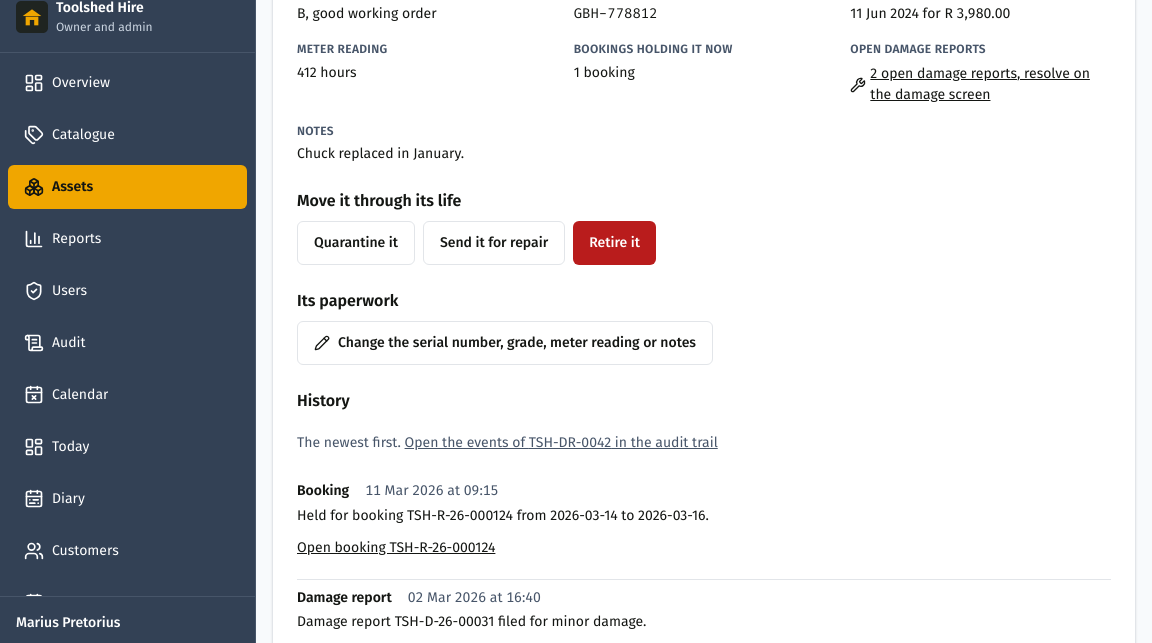
changing the paperwork › goes back to the form with each refusal under its field, and lists one with no field
(page scrolled)
Click the button "Change the serial number, grade, meter reading or notes": (505,343) top-left (297, 321), bottom-right (713, 365)
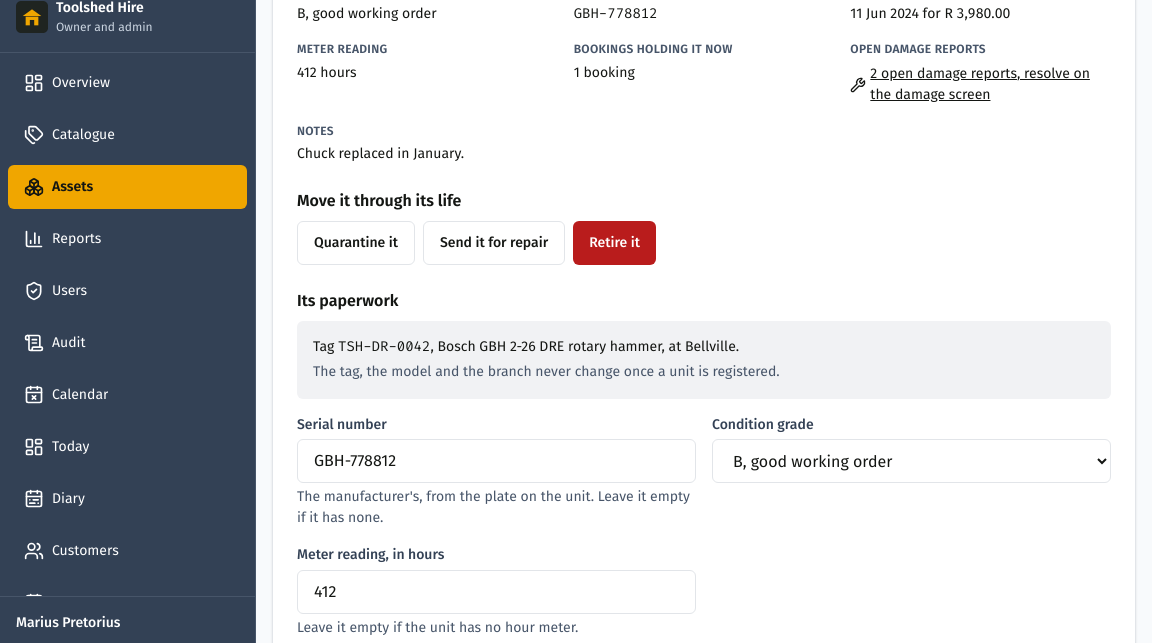
Replace the text in the field labelled "Meter reading, in hours" with "-4": (496,592) top-left (297, 570), bottom-right (696, 614)
(page scrolled)
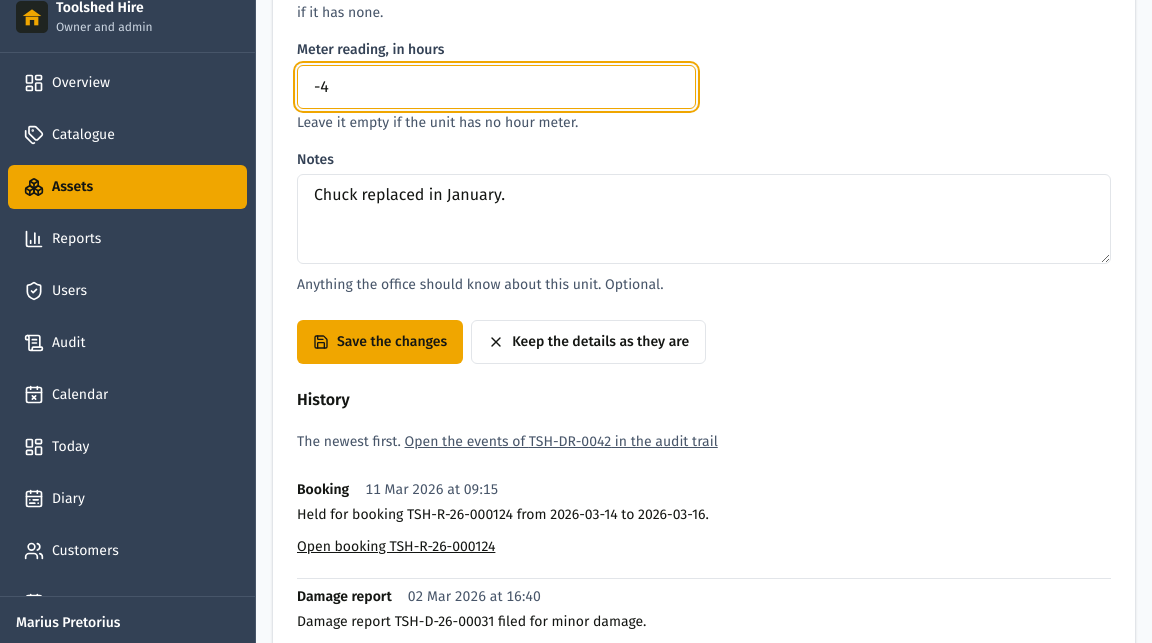
Click the button "Save the changes": (380,342) top-left (297, 320), bottom-right (463, 364)
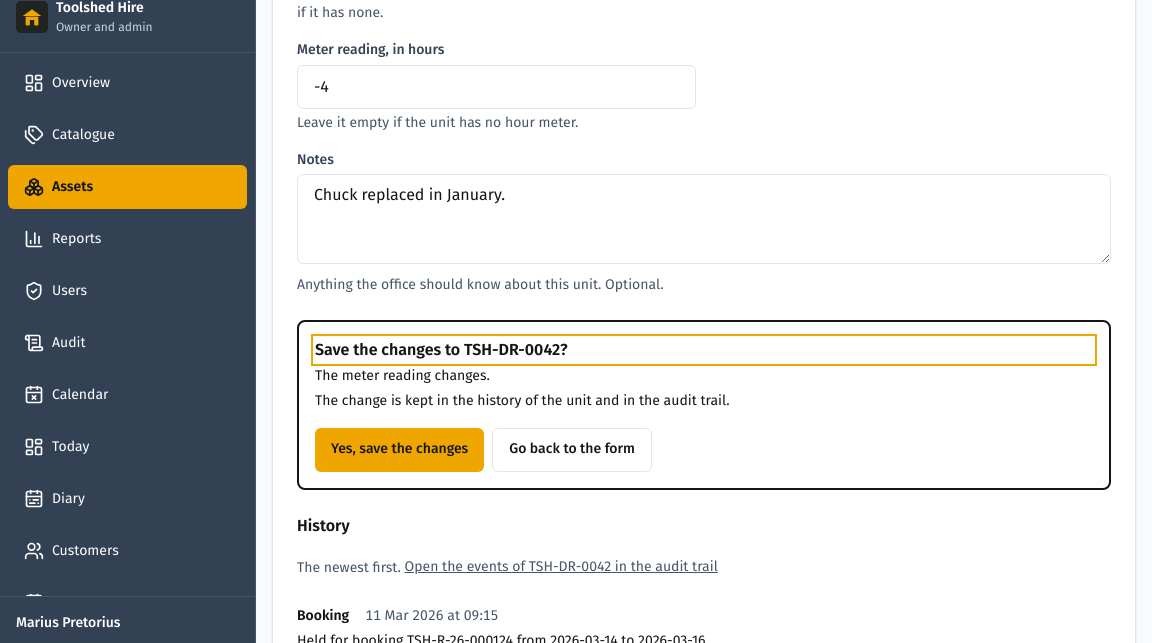
Click the button "Yes, save the changes": (400,450) top-left (315, 428), bottom-right (484, 472)
(page scrolled)
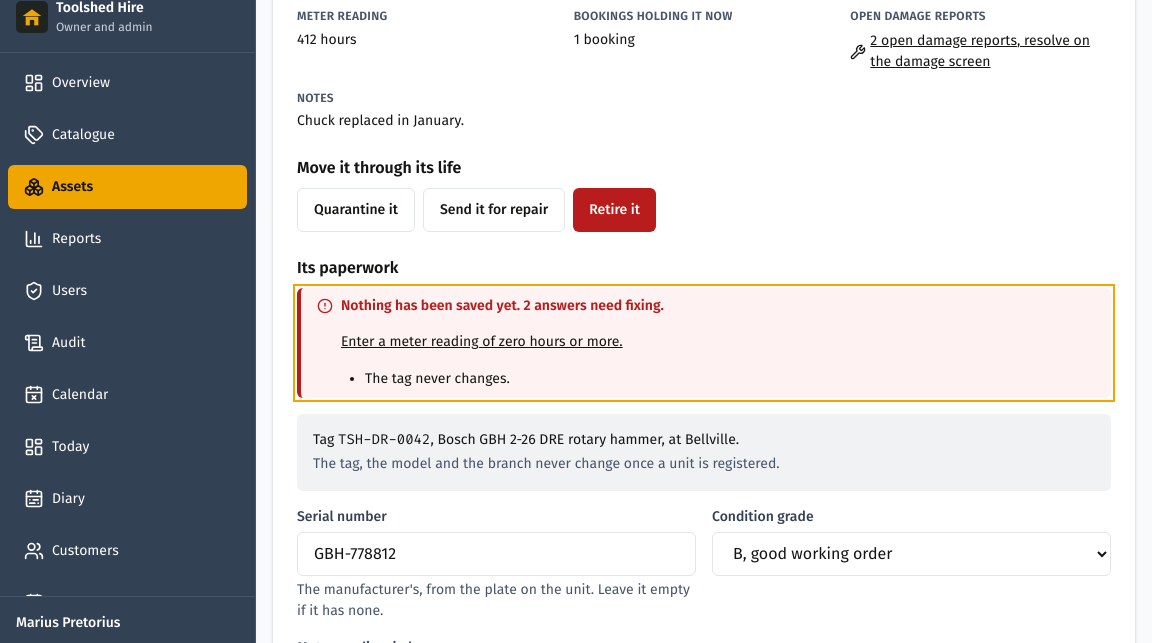
Now the message shows "Nothing has been saved yet. 2 answers need fixing.", box top-left (341, 297), bottom-right (664, 314)
Now the message shows "The tag never changes.", box top-left (365, 370), bottom-right (510, 387)
